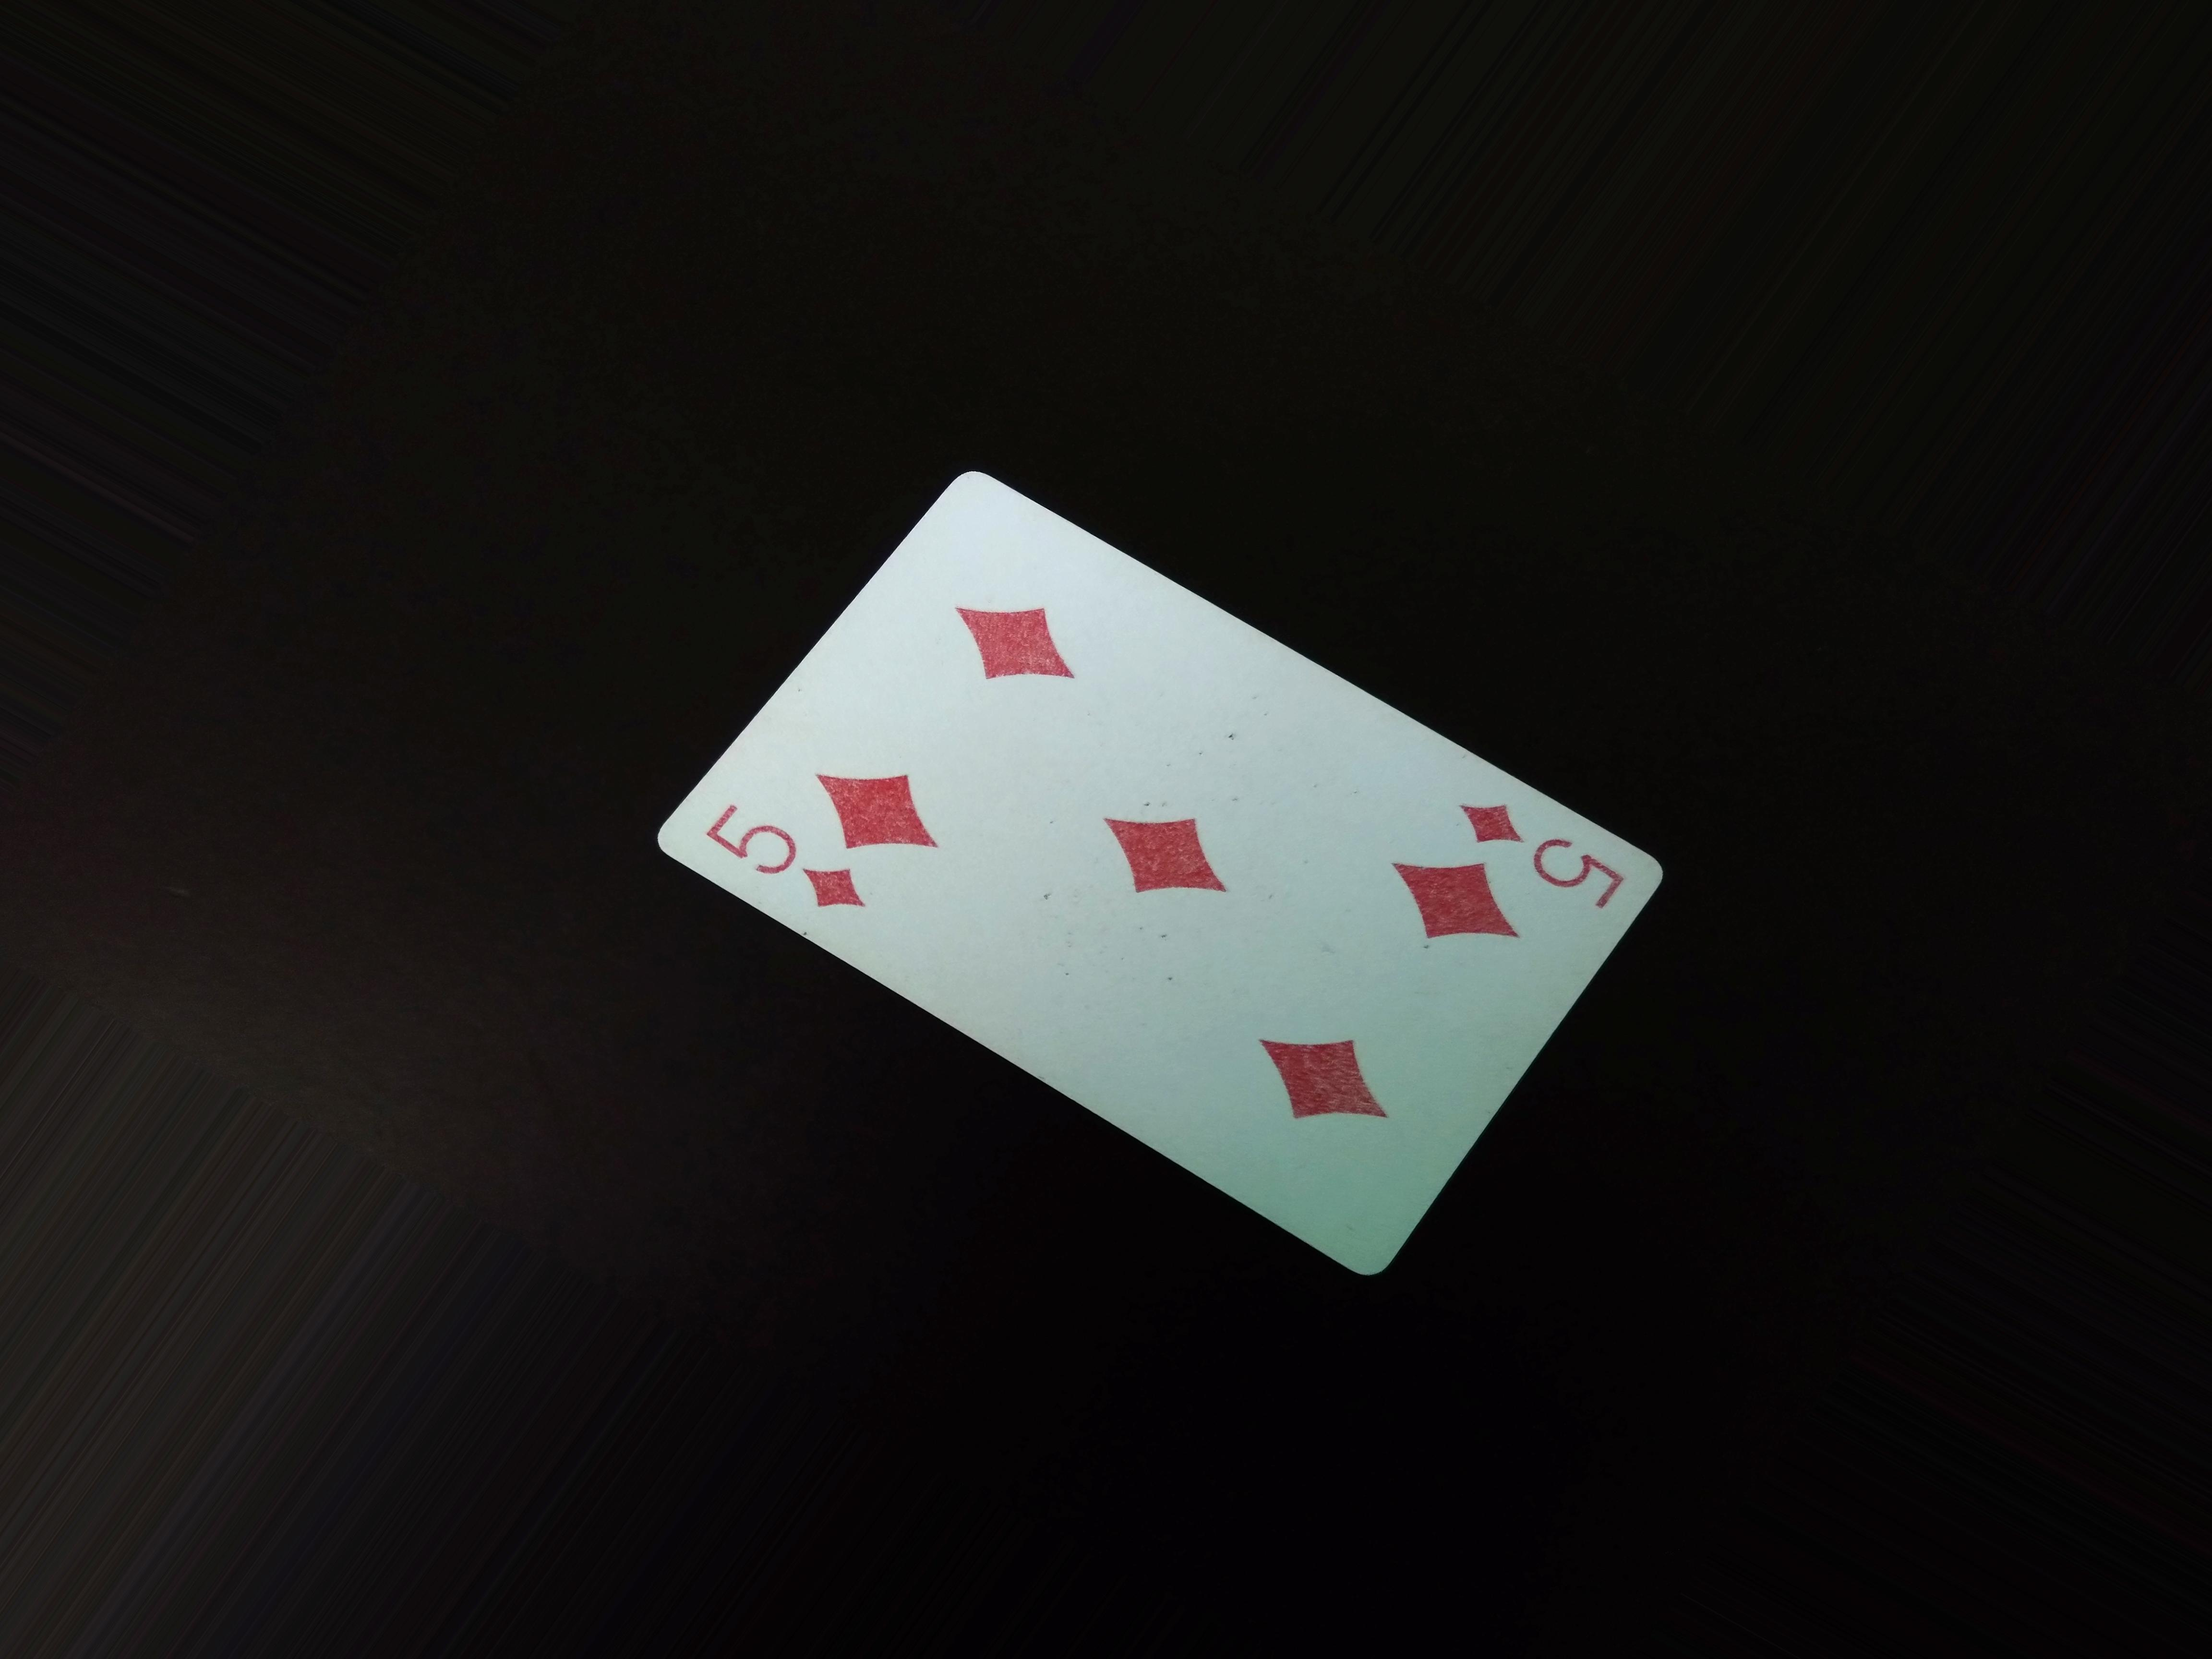5D: (705, 789, 906, 941)
